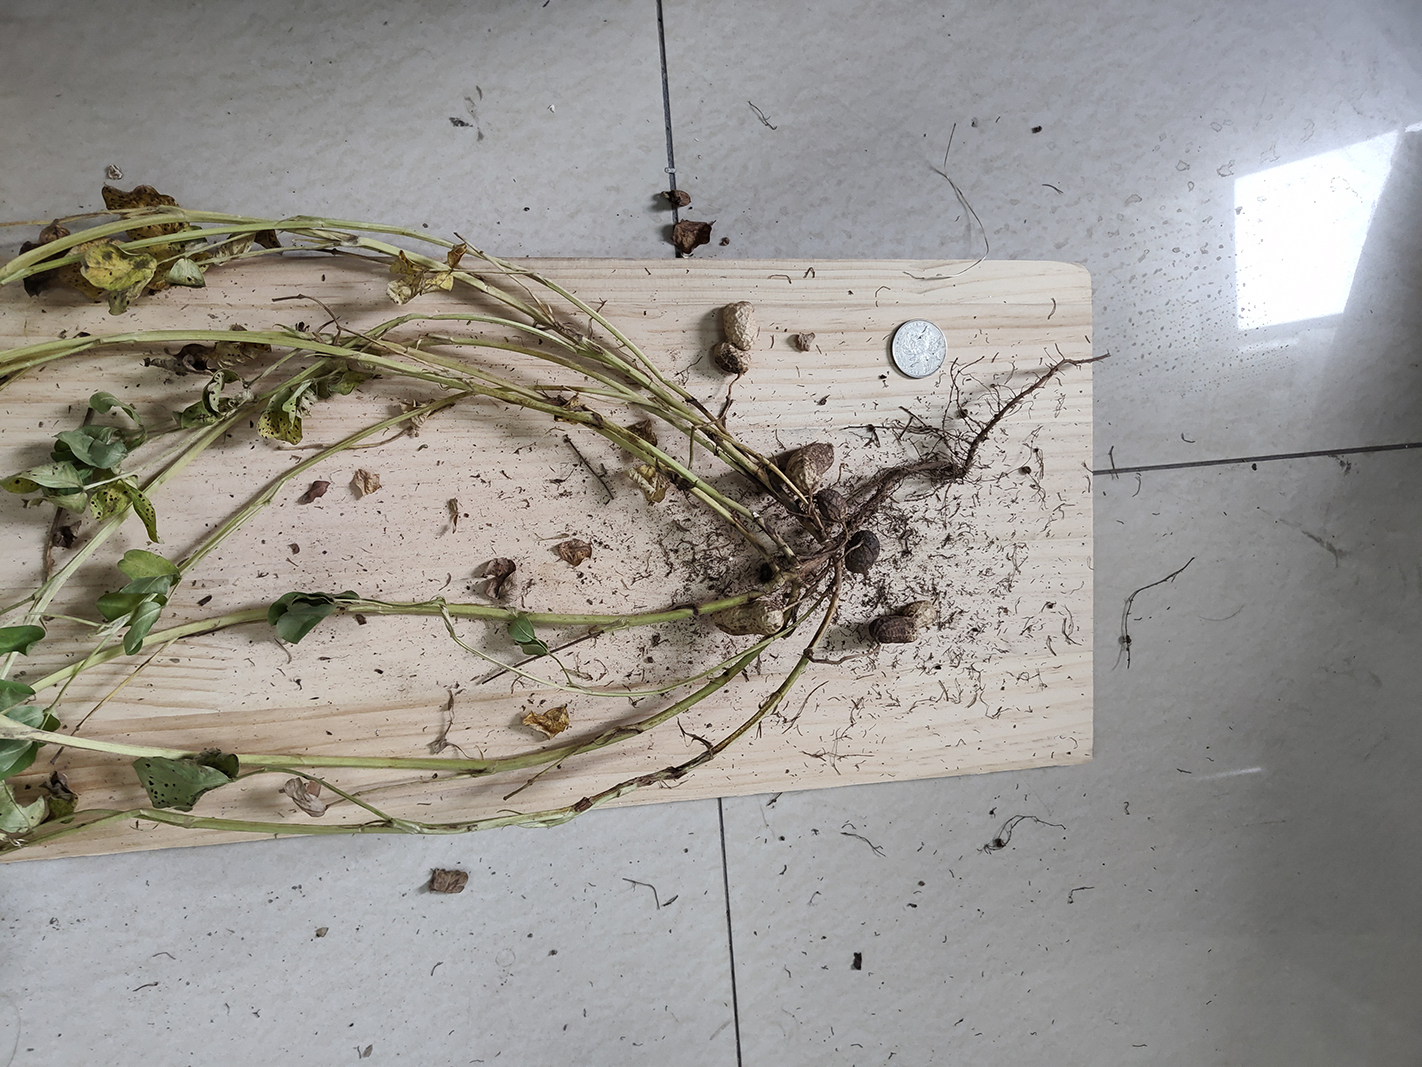h: (712, 300, 754, 374), (716, 603, 786, 635)
l: (871, 605, 933, 644), (786, 442, 835, 490), (846, 530, 881, 574), (819, 491, 849, 522)
